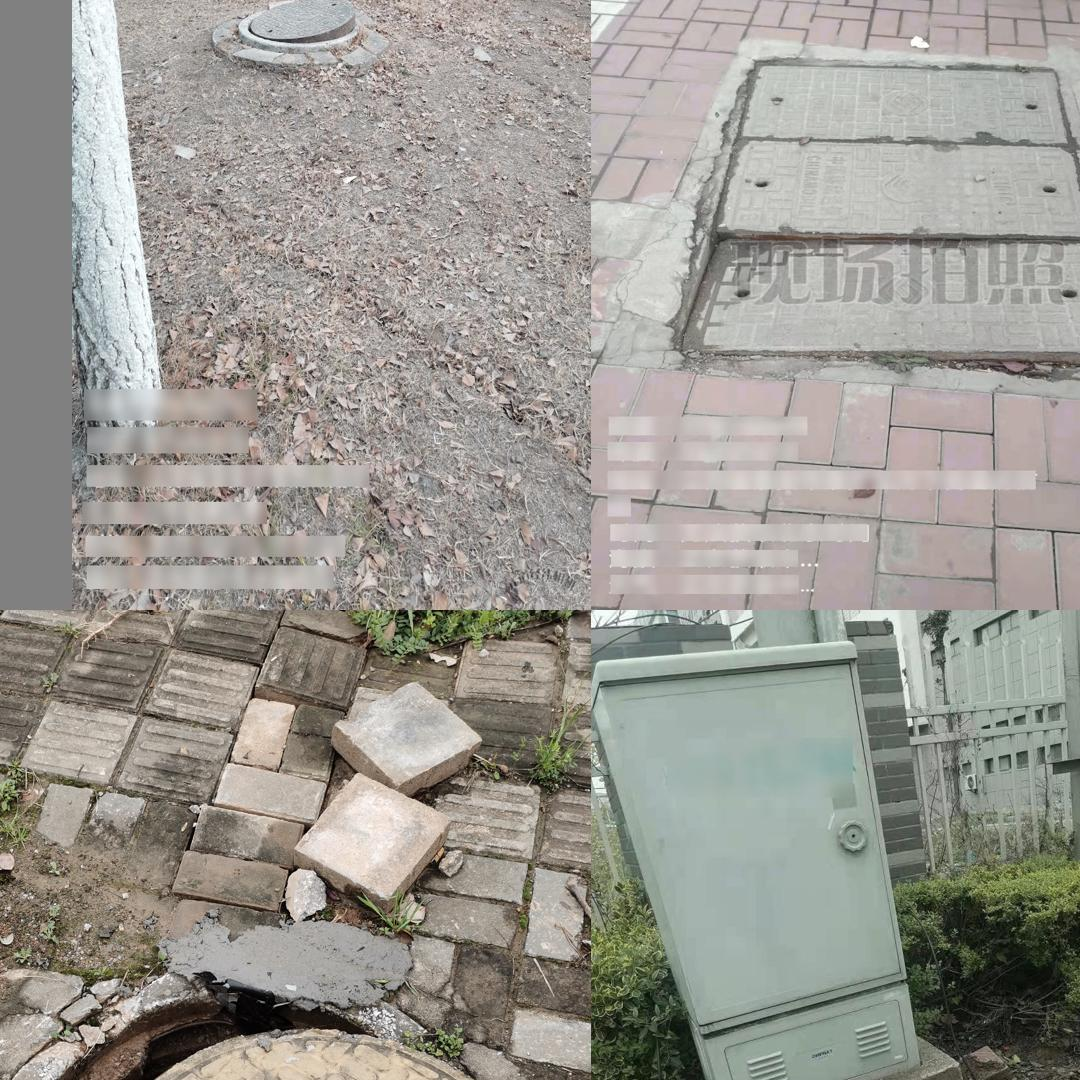uncovered: (671, 48, 1080, 381), (0, 991, 505, 1080), (233, 0, 360, 47)
